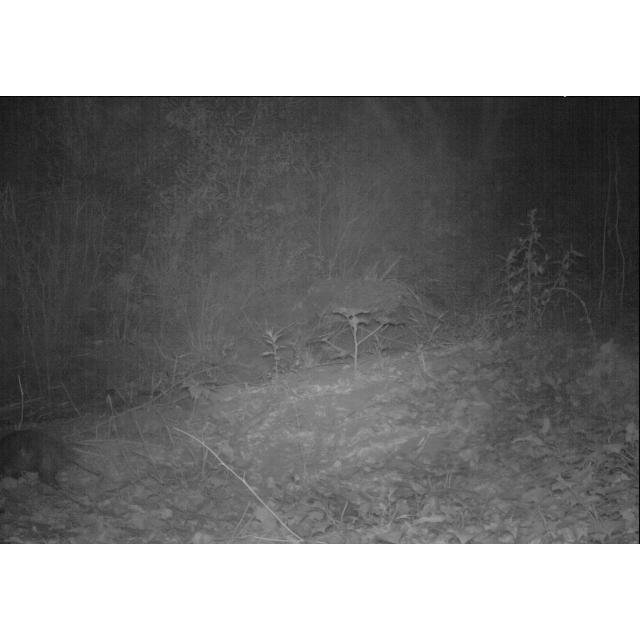animals: (0, 430, 96, 492)
